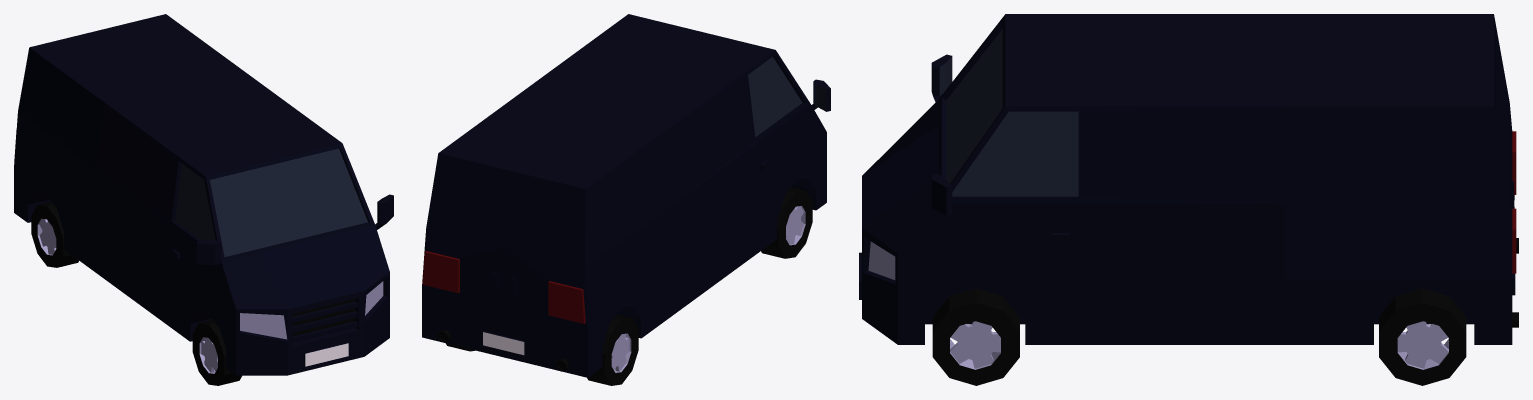
The model's file is van-Bif4-AB4.glb.
3 views of the same model, side by side, from view 1: azimuth 30°, elevation 25°; view 2: azimuth 150°, elevation 25°; view 3: azimuth 270°, elevation 25° (orthographic). The views are drawn at different scales.
Parts seen in each view (by area): view 1: Van, Van_wheel_front_right, Van_wheel_rear_right; view 2: Van, Van_wheel_rear_right, Van_wheel_front_right; view 3: Van, Van_wheel_front_left, Van_wheel_rear_left.
Part boxes in pixels (box(x1,y1,x2,y2)): Van: box(14, 14, 393, 375); Van_wheel_front_right: box(192, 319, 241, 385); Van_wheel_rear_right: box(31, 201, 78, 267); Van: box(422, 14, 830, 377); Van_wheel_rear_right: box(587, 314, 638, 385); Van_wheel_front_right: box(761, 187, 812, 258); Van: box(859, 14, 1518, 344); Van_wheel_front_left: box(932, 288, 1019, 385); Van_wheel_rear_left: box(1379, 288, 1466, 385).
Bounding box in the file's own units: 281 × 271 × 591.
